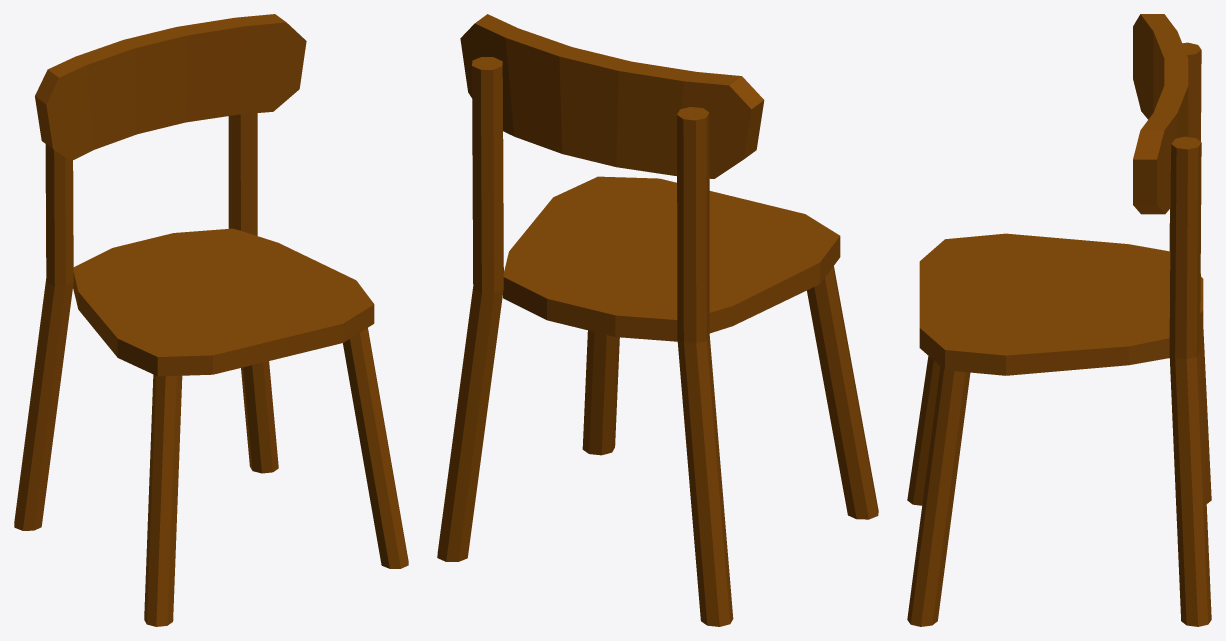
Rendered from stuhl farbe.fbx.
The picture shows the model from 3 angles, left to right: view 1: azimuth 30°, elevation 25°; view 2: azimuth 150°, elevation 25°; view 3: azimuth 270°, elevation 25°; orthographic projection. The views are drawn at different scales.
Visible parts, largest first — view 1: sthul; view 2: sthul; view 3: sthul.
Part boxes in pixels (x1,y1,x2,y2): sthul: (14,14,408,626); sthul: (437,14,878,626); sthul: (907,14,1211,626).
Size of the model in its own units: 159 by 271 by 153.
